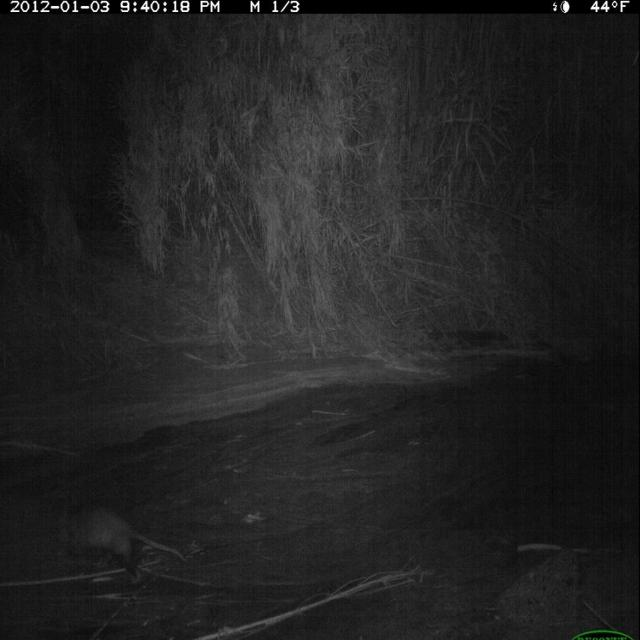opossum: (40, 477, 194, 601)
